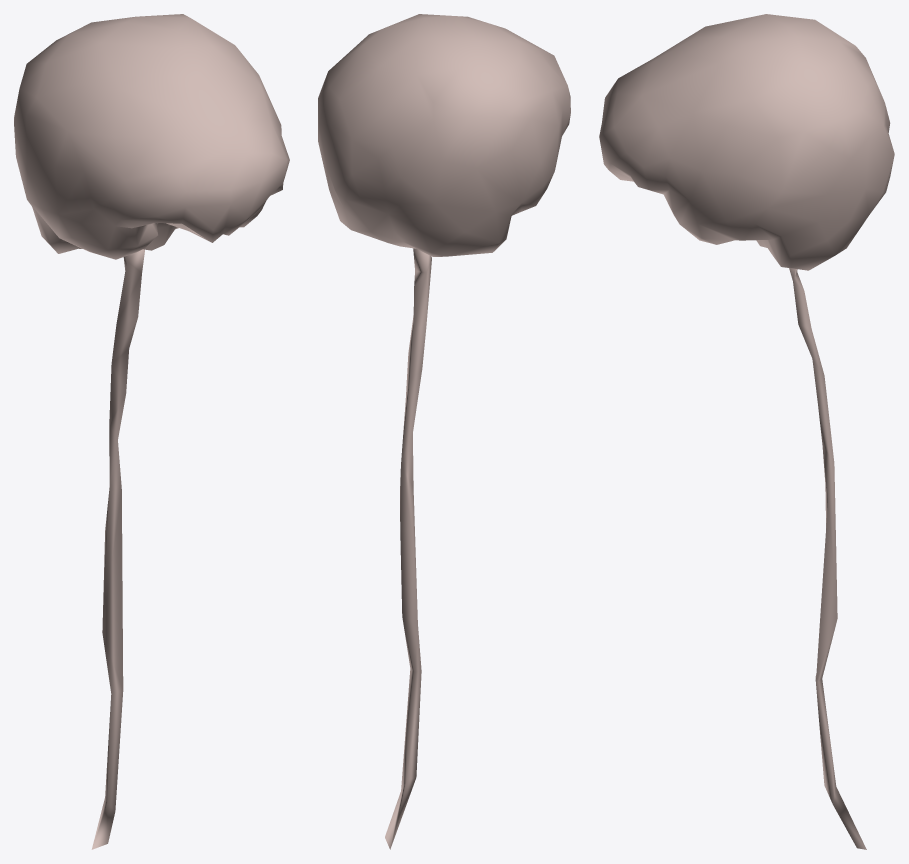
Rendered from pediatric_infant_female.nervous.LOD3.glb.
The picture shows the model from 3 angles, left to right: view 1: azimuth 30°, elevation 25°; view 2: azimuth 150°, elevation 25°; view 3: azimuth 270°, elevation 25°; orthographic projection. The views are drawn at different scales.
Parts seen in each view (by area): view 1: PEDIATRIC.INFANT.FEMALE.NERVOUS.BRAIN, PEDIATRIC.INFANT.FEMALE.NERVOUS.SPINAL_CORD; view 2: PEDIATRIC.INFANT.FEMALE.NERVOUS.BRAIN, PEDIATRIC.INFANT.FEMALE.NERVOUS.SPINAL_CORD; view 3: PEDIATRIC.INFANT.FEMALE.NERVOUS.BRAIN, PEDIATRIC.INFANT.FEMALE.NERVOUS.SPINAL_CORD.
Part boxes in pixels (box(x1,y1,x2,y2)): PEDIATRIC.INFANT.FEMALE.NERVOUS.BRAIN: box(14, 14, 289, 259); PEDIATRIC.INFANT.FEMALE.NERVOUS.SPINAL_CORD: box(91, 249, 144, 849); PEDIATRIC.INFANT.FEMALE.NERVOUS.BRAIN: box(318, 14, 570, 256); PEDIATRIC.INFANT.FEMALE.NERVOUS.SPINAL_CORD: box(385, 248, 431, 849); PEDIATRIC.INFANT.FEMALE.NERVOUS.BRAIN: box(599, 14, 894, 270); PEDIATRIC.INFANT.FEMALE.NERVOUS.SPINAL_CORD: box(789, 268, 866, 849).
Bounding box in the file's own units: 0.1233 × 0.4378 × 0.1432.
